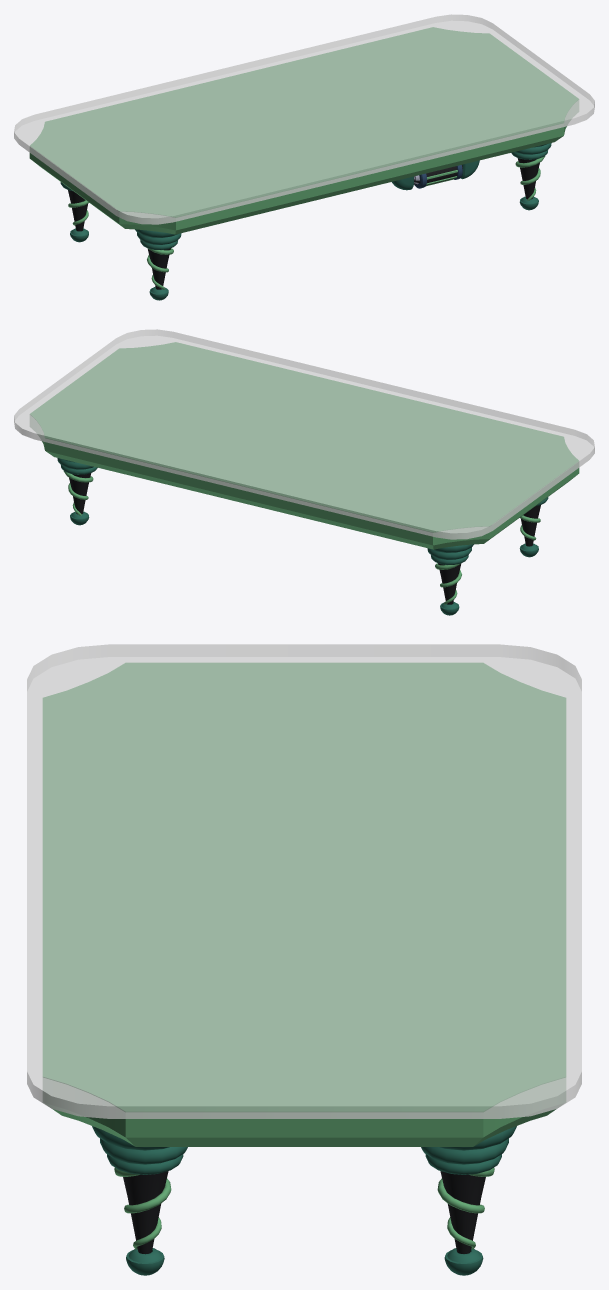
The model's file is Furn_TableFloatingSmall_Green_B.fbx.
3 renders of one model, top to bottom at view 1: azimuth 30°, elevation 25°; view 2: azimuth 150°, elevation 25°; view 3: azimuth 270°, elevation 25°, orthographic. The views are drawn at different scales.
Visible parts, largest first — view 1: Furn_TableFloatingSmall_Green_B.001; view 2: Furn_TableFloatingSmall_Green_B.001; view 3: Furn_TableFloatingSmall_Green_B.001.
Boxes of the visible parts, left/top/right/bottom form: Furn_TableFloatingSmall_Green_B.001: left=14, top=14, right=594, bottom=300; Furn_TableFloatingSmall_Green_B.001: left=14, top=329, right=594, bottom=615; Furn_TableFloatingSmall_Green_B.001: left=27, top=644, right=581, bottom=1275.
Bounding box in the file's own units: 1.4 × 0.3043 × 0.7099.
